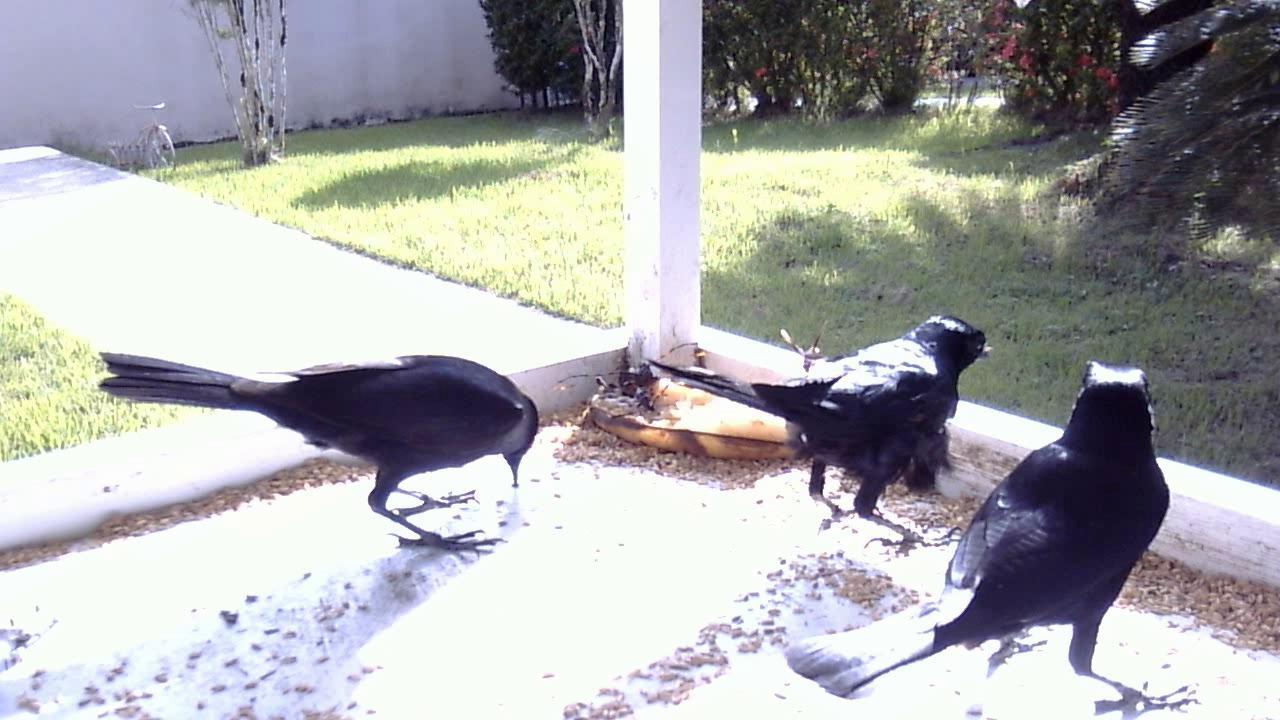chupim: (797, 363, 1216, 713), (80, 318, 551, 595), (643, 300, 999, 554)
